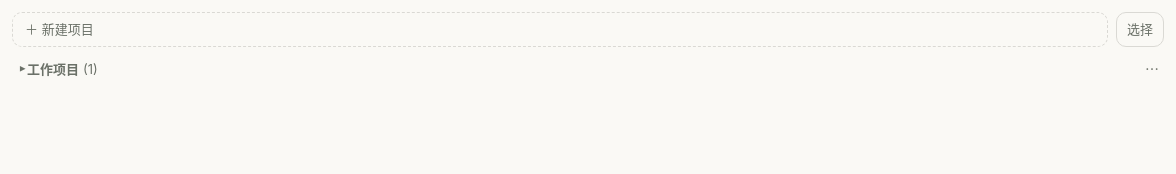
SessionListPanel 会话分组树 › 项目组可折叠，折叠态持久化到 localStorage
The width and height of the screenshot is (1176, 174).
expect the link "理解注意力机制" is not shown: met
Click the button named "工作项目(": (53, 69) [12,55,1136,84]
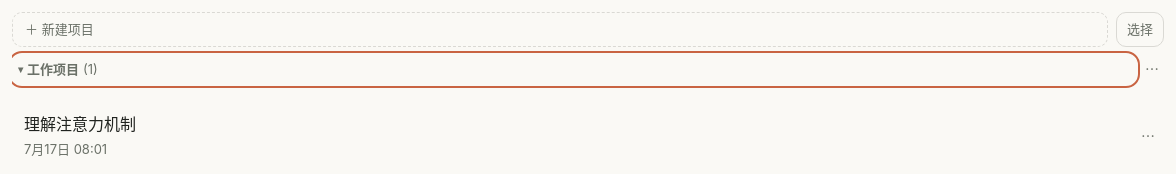
expect the link "理解注意力机制" is shown: met, box [24,114,136,157]
